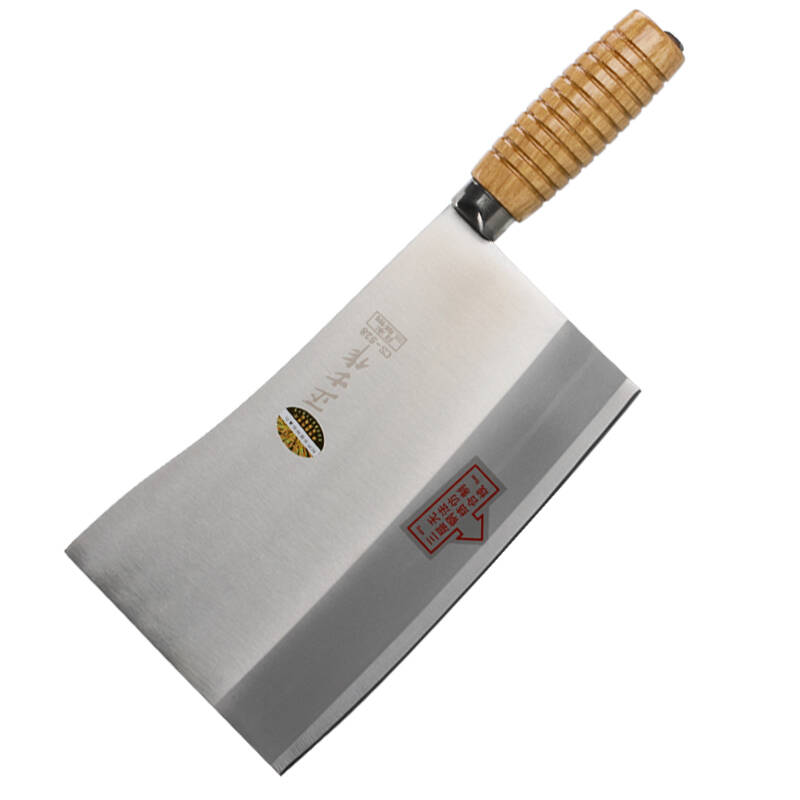knief: (35, 48, 722, 775)
